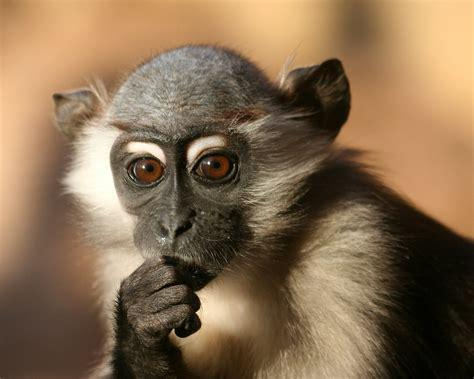monkey: (54, 45, 471, 379)
